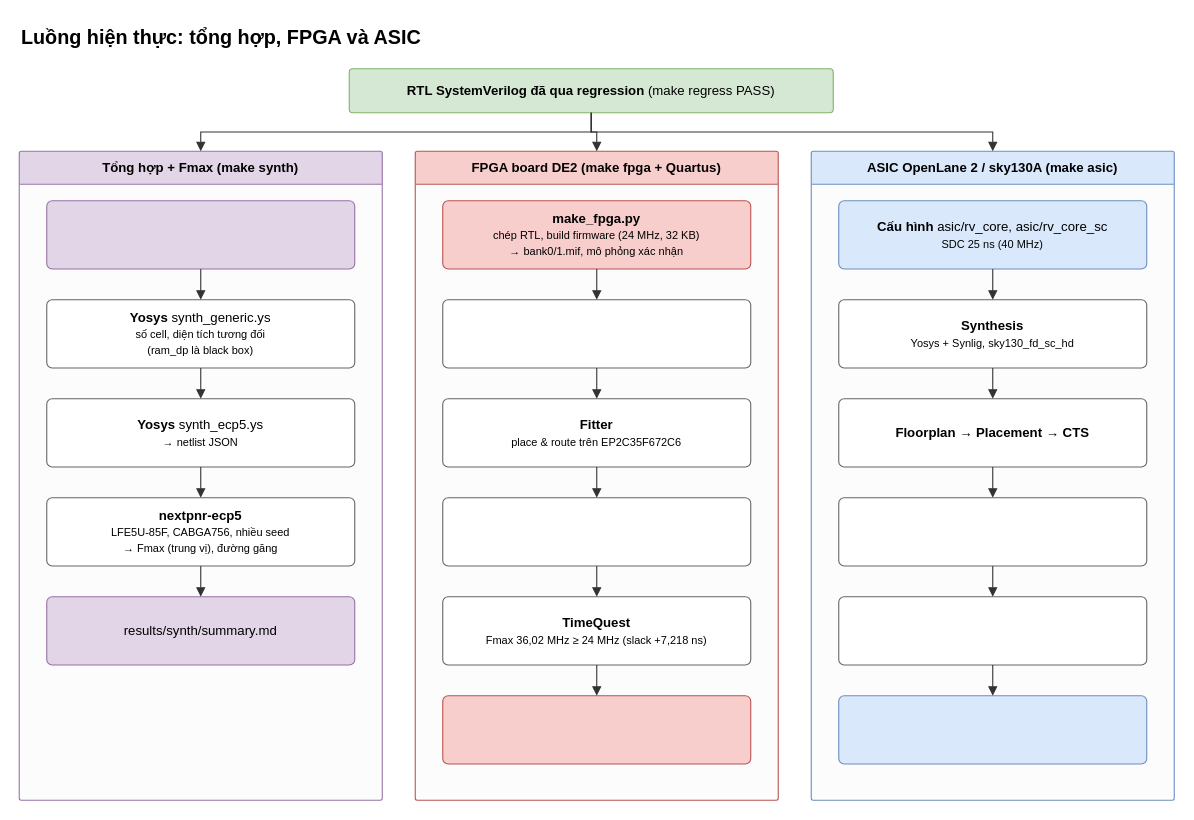
This 1194x820 diagram has some shape labels left out. The shapes that lost their labels are listed below. From the top down, each one's centre as x and y in pixels, then its label:
pixel 200 234: RTL + rtl_files.f
pixel 596 333: Analysis & Synthesis Quartus II 13.0sp1
pixel 596 531: Assembler → de2_soc.sof
pixel 992 531: Routing (global + detailed)
pixel 992 630: Sign-off STA 3 góc PVT (OpenROAD, SPEF) DRC Magic / KLayout · LVS Netgen
pixel 596 729: Programmer (USB-Blaster, JTAG) → chạy trên board, xem UART qua PuTTY
pixel 992 729: GDSII + mô phỏng gate-level (Icarus) netlist ≡ RTL trên riscv-tests
